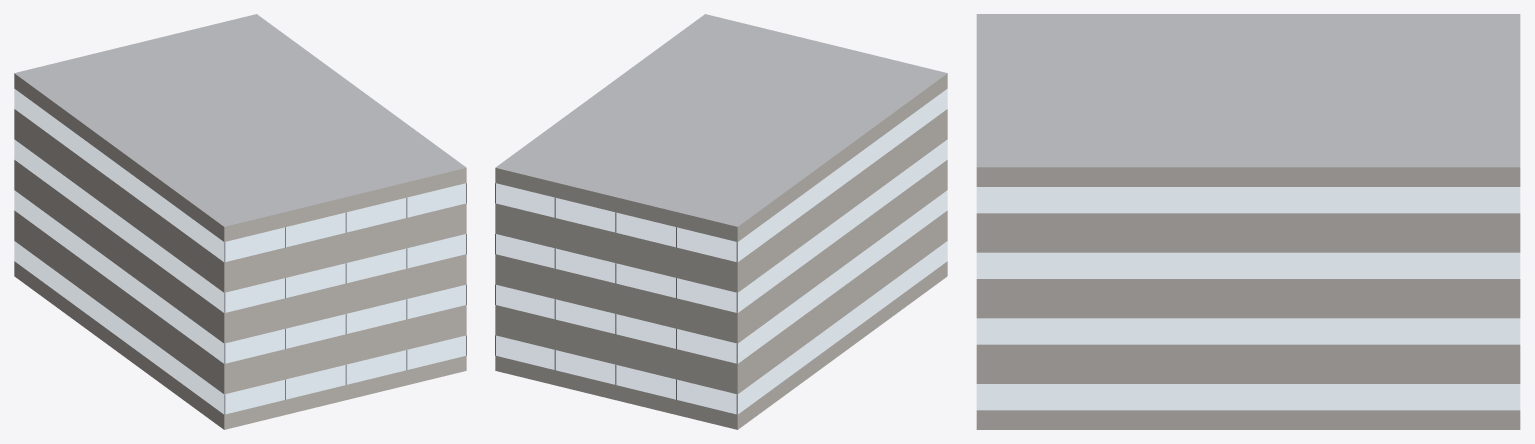
3 renders of one model, left to right at view 1: azimuth 30°, elevation 25°; view 2: azimuth 150°, elevation 25°; view 3: azimuth 270°, elevation 25°, orthographic. The views are drawn at different scales.
Parts seen in each view (by area): view 1: Dinding Bata, Atap Beton, Fasad_CurtainWall; view 2: Dinding Bata, Atap Beton, Fasad_CurtainWall; view 3: Dinding Bata, Atap Beton, Fasad_CurtainWall.
Part boxes in pixels (x1=…): Dinding Bata: x1=14, y1=73, x2=466, y2=429; Atap Beton: x1=14, y1=14, x2=466, y2=226; Fasad_CurtainWall: x1=14, y1=89, x2=466, y2=414; Dinding Bata: x1=495, y1=73, x2=947, y2=429; Atap Beton: x1=495, y1=14, x2=947, y2=226; Fasad_CurtainWall: x1=495, y1=89, x2=947, y2=414; Dinding Bata: x1=976, y1=167, x2=1520, y2=429; Atap Beton: x1=976, y1=14, x2=1520, y2=167; Fasad_CurtainWall: x1=977, y1=187, x2=1519, y2=409.
Size of the model in its own units: 20 by 16 by 30.04.
